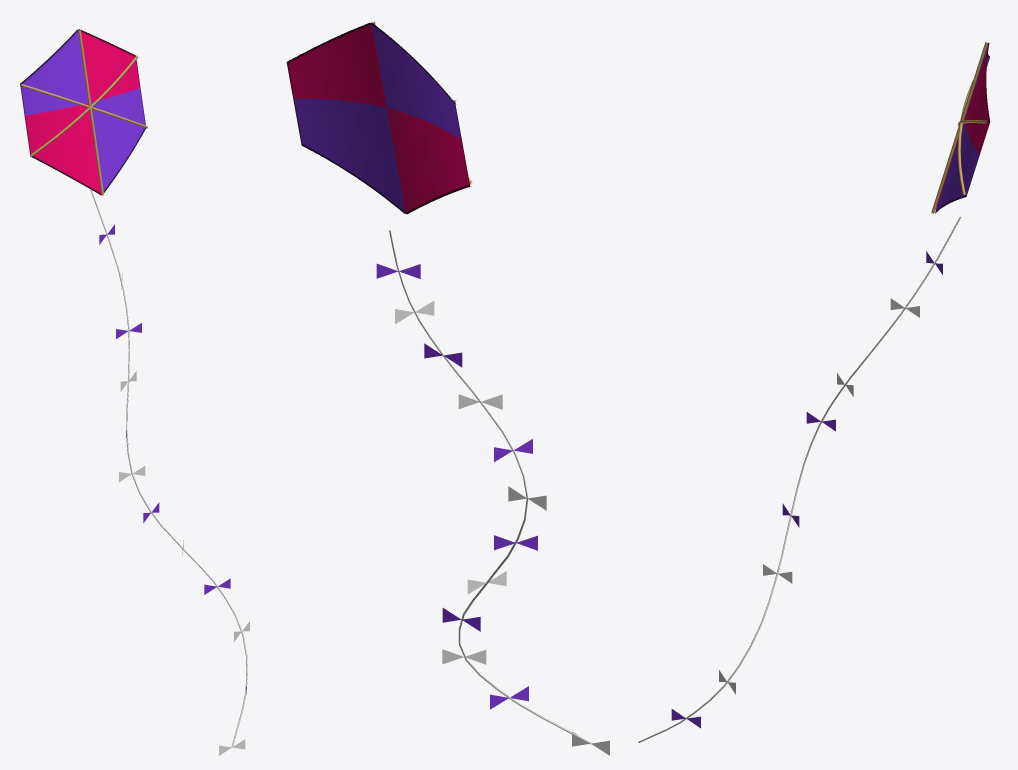
Rendered from raia-4.glb.
3 renders of one model, left to right at view 1: azimuth 30°, elevation 25°; view 2: azimuth 150°, elevation 25°; view 3: azimuth 270°, elevation 25°, orthographic. The views are drawn at different scales.
Visible parts, largest first — view 1: raia-4; view 2: raia-4; view 3: raia-4.
Part boxes in pixels (x1=…): raia-4: x1=20, y1=29, x2=249, y2=755; raia-4: x1=286, y1=21, x2=609, y2=755; raia-4: x1=638, y1=42, x2=990, y2=742.
Bounding box in the file's own units: 1.19 × 5.81 × 2.73.
Materials: 5 (1 with a texture image).
